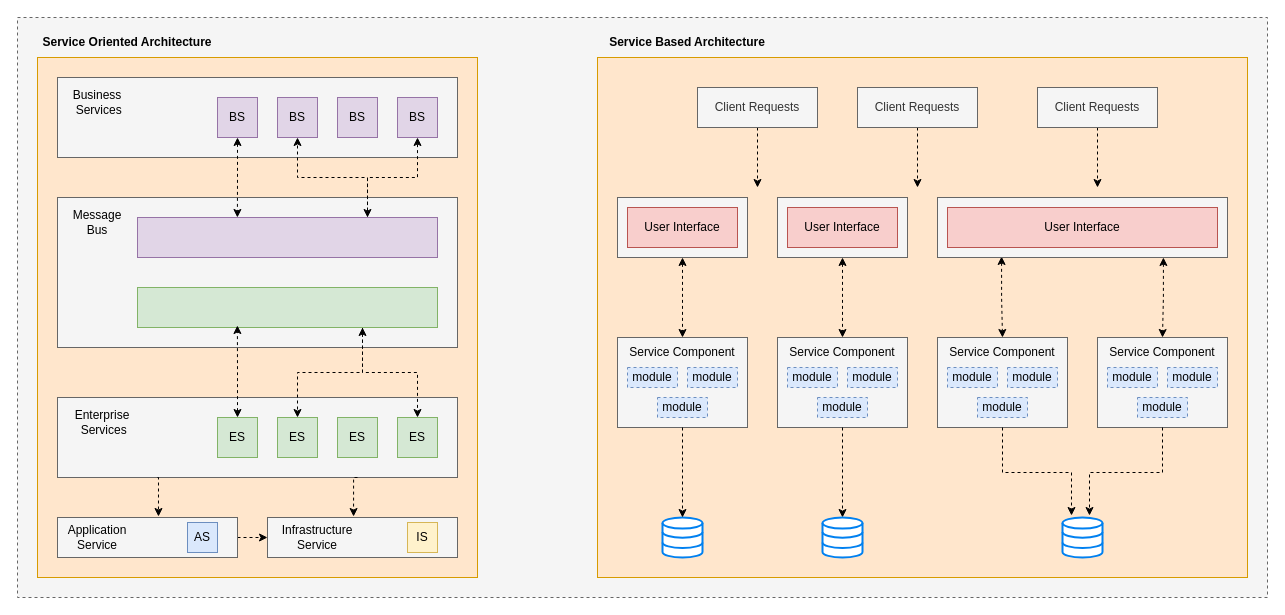
The diagram is 1285 pixels wide and 615 high, and some of its shapes have lost their labels. Each missing label, with the centre of its shape:
Process Coreographer: the point at 287,237
Service Orchestrator: the point at 287,307
